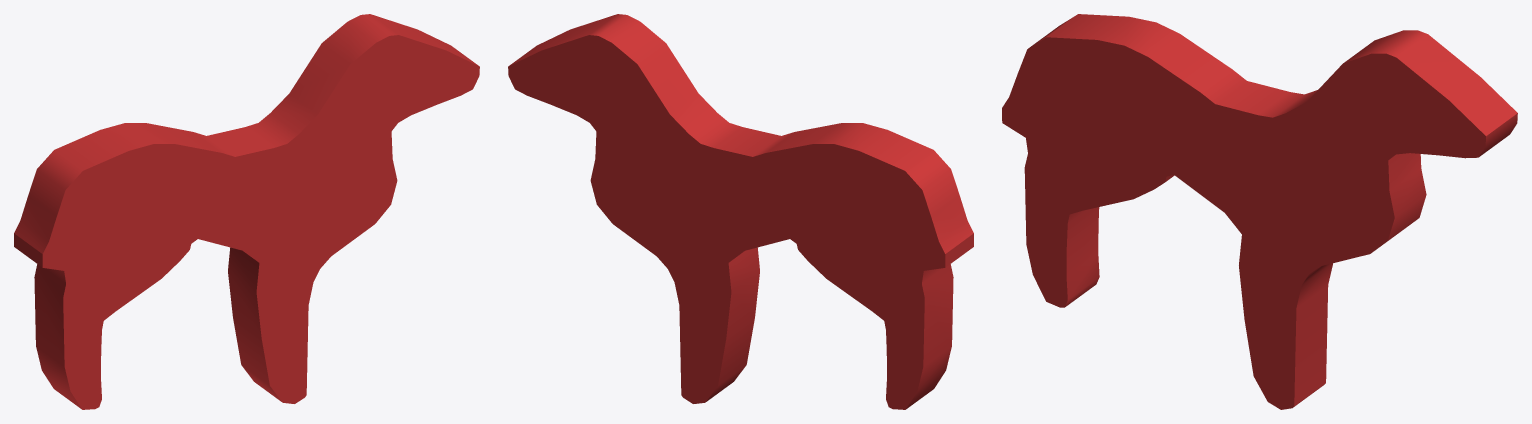
File: charlie_horse_body.obj
3 views of the same model, side by side, from view 1: azimuth 30°, elevation 25°; view 2: azimuth 150°, elevation 25°; view 3: azimuth 330°, elevation 25° (orthographic). The views are drawn at different scales.
Parts seen in each view (by area): view 1: charlie_horse_visual; view 2: charlie_horse_visual; view 3: charlie_horse_visual.
Part boxes in pixels (x1,y1,x2,y2): charlie_horse_visual: (14,14,479,409); charlie_horse_visual: (508,14,973,409); charlie_horse_visual: (1002,14,1517,409).
Bounding box in the file's own units: 0.0176 × 0.0133 × 0.002.
